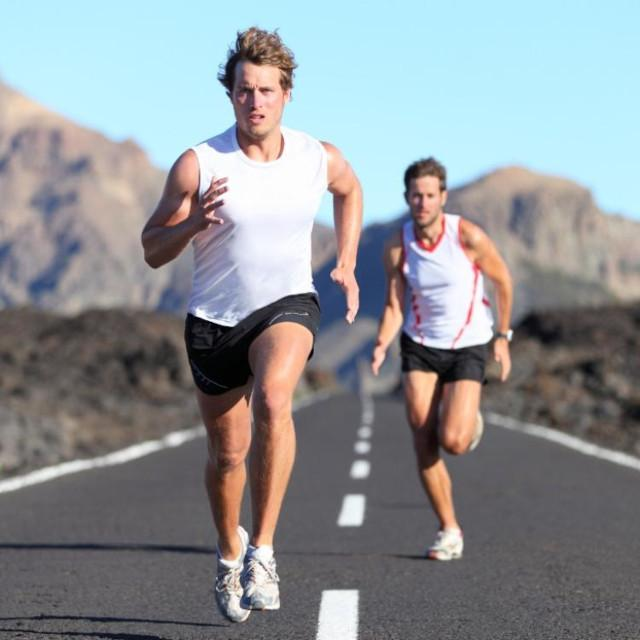mezczyzna: (147, 30, 353, 623), (372, 154, 514, 562)
